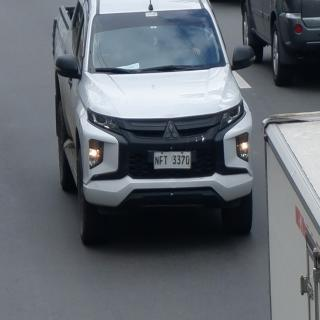license: (155, 153, 192, 170)
